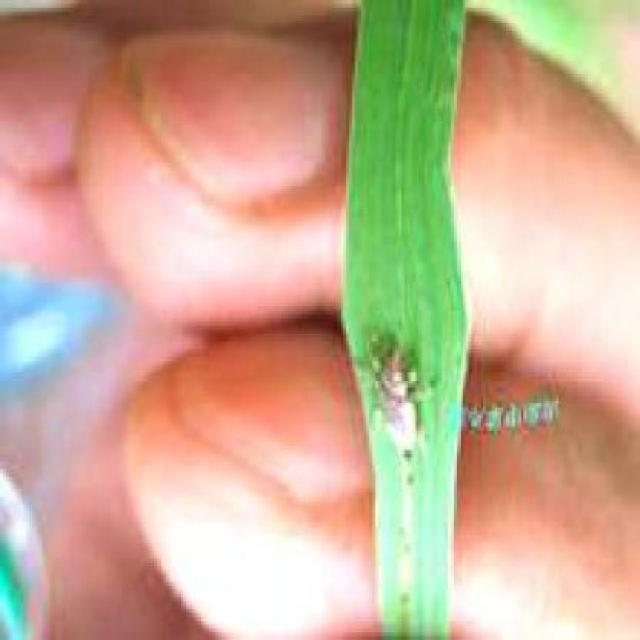rice-bug: (364, 339, 436, 461)
